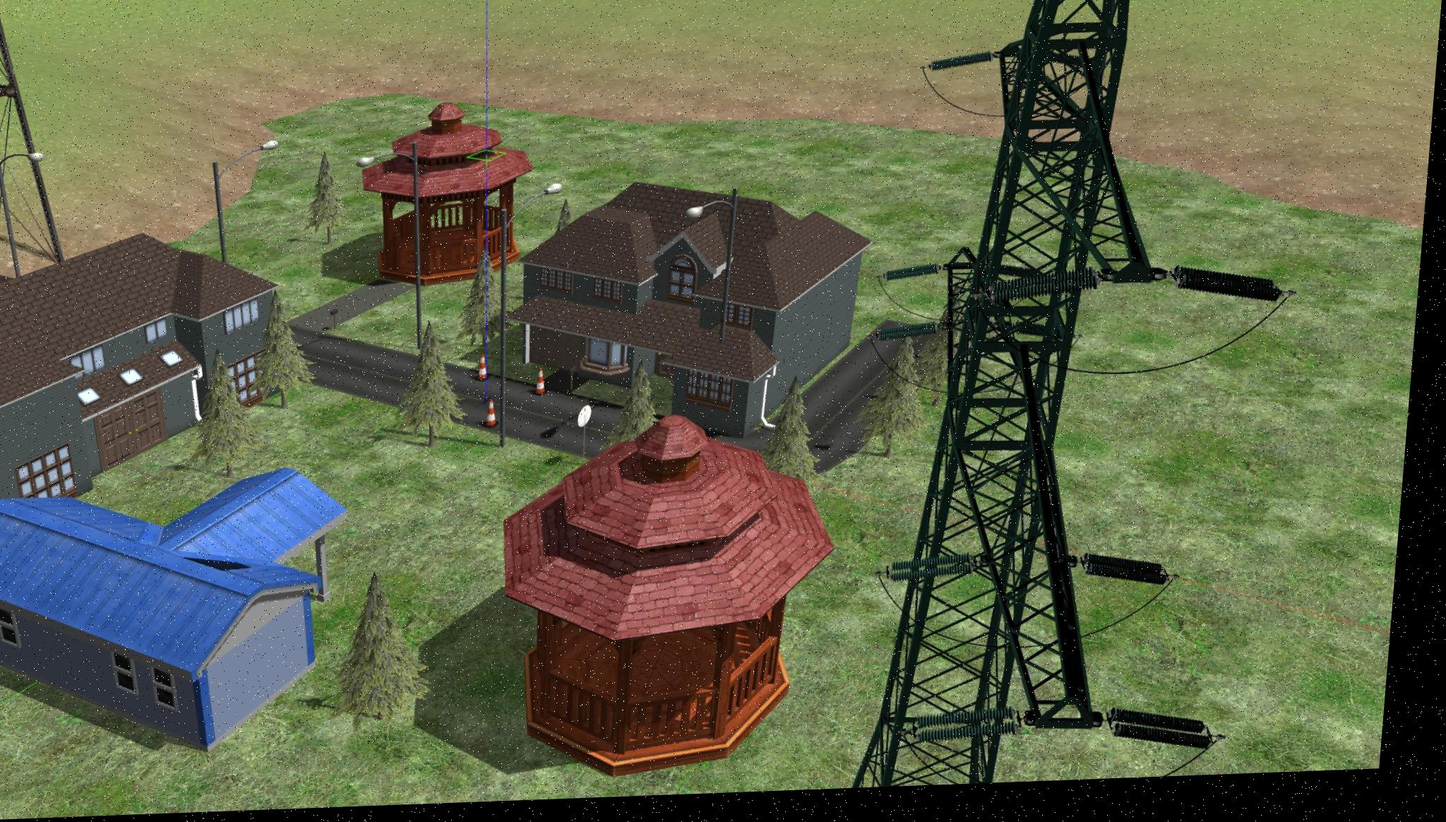tower: (825, 0, 1203, 789)
